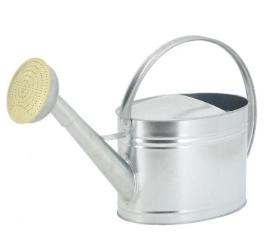ARROSOIR: (0, 32, 268, 252)
